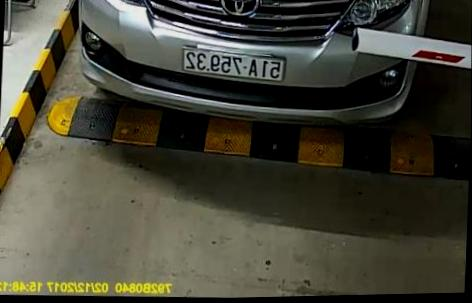License_Plate: (165, 40, 295, 96)
